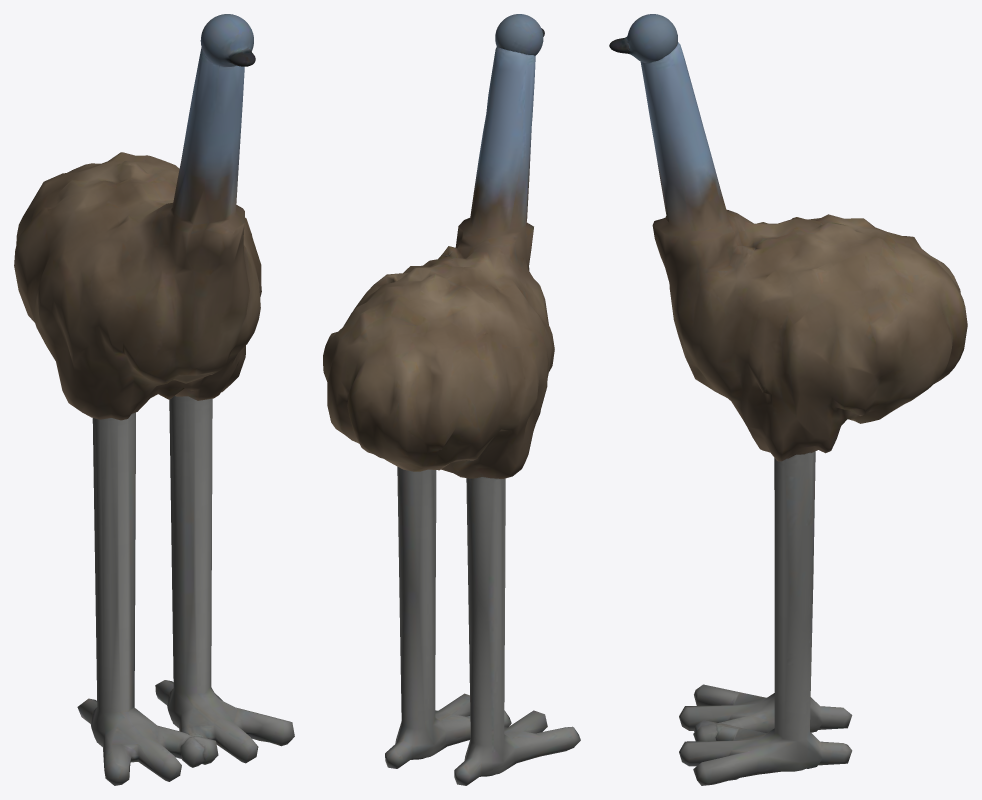
Rendered from animal_emu.glb.
3 renders of one model, left to right at view 1: azimuth 30°, elevation 25°; view 2: azimuth 150°, elevation 25°; view 3: azimuth 270°, elevation 25°, orthographic. The views are drawn at different scales.
Parts seen in each view (by area): view 1: animal_emu, leg1, leg0, head; view 2: animal_emu, leg0, leg1, head; view 3: animal_emu, leg1, leg0, head.
Boxes of the visible parts, box(x1,y1,x2,y2) form: animal_emu: box(14, 47, 261, 420); leg1: box(155, 396, 294, 767); leg0: box(77, 412, 218, 785); head: box(200, 14, 255, 66); animal_emu: box(323, 47, 554, 478); leg0: box(454, 477, 580, 785); leg1: box(385, 466, 511, 768); head: box(495, 14, 544, 55); animal_emu: box(640, 42, 967, 461); leg1: box(679, 451, 852, 785); leg0: box(679, 458, 852, 741); head: box(609, 14, 677, 63).
Size of the model in its own units: 0.267 by 0.9612 by 0.4275.
1 material, 1 textured.
